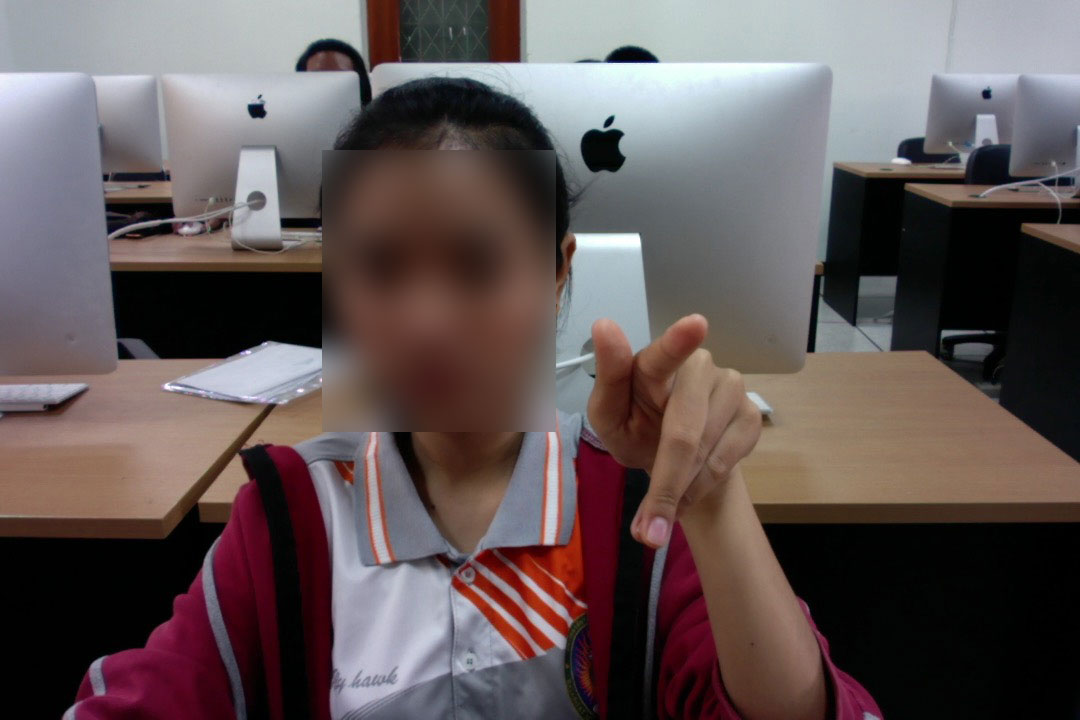por: (576, 307, 766, 553)
